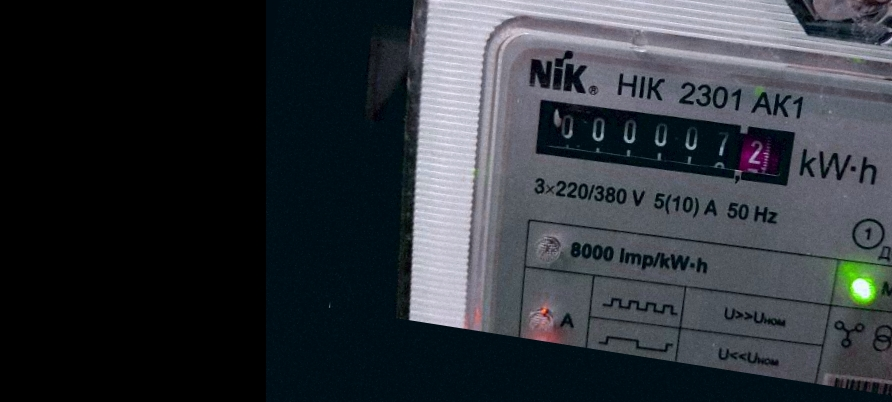0: (557, 110, 578, 140), (651, 119, 672, 148), (589, 113, 609, 143), (620, 115, 640, 145), (682, 123, 702, 153)
2: (746, 138, 766, 166)
7: (713, 127, 732, 159)
screen: (521, 85, 808, 199)
